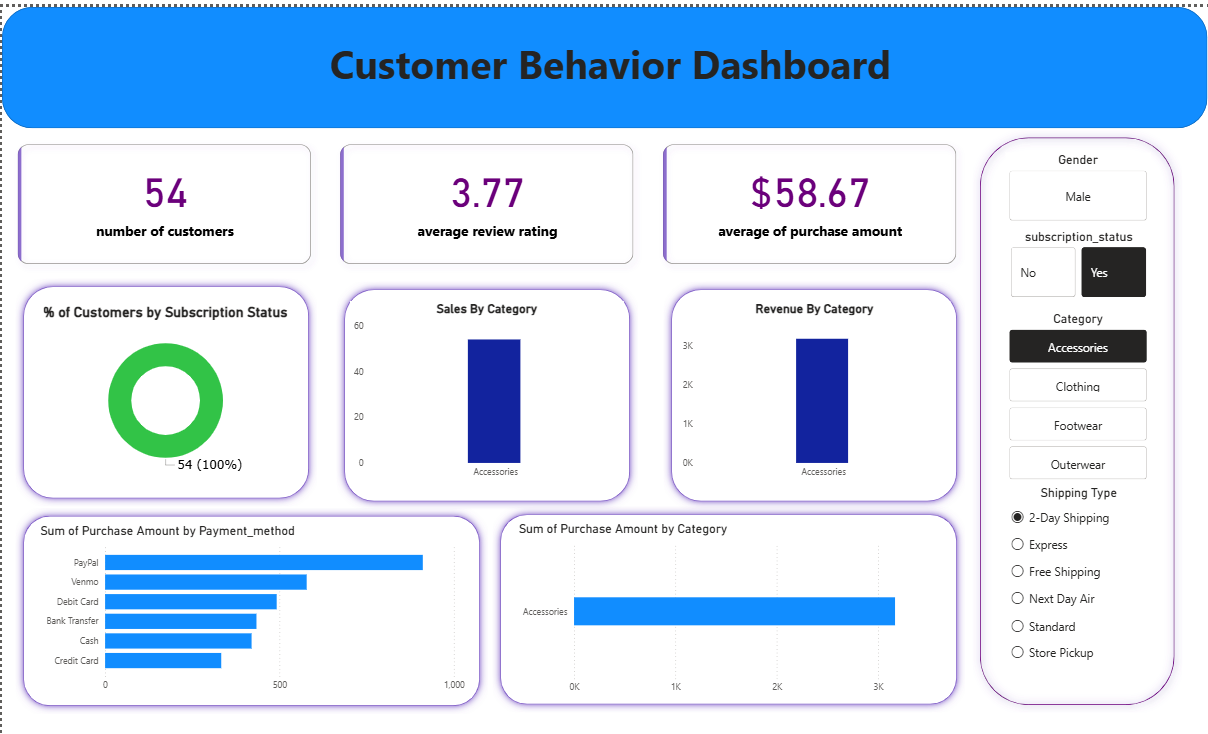

The dashboard page shown, as its layout file describes it:
{"tool":"powerbi","page":{"name":"Page 1","canvas":[1640,1000],"ordinal":0},"visuals":[{"type":"cardVisual","fields":{"Data":["public customers.number of customers","public customers.average review rating","public customers.average of purchase amount"]},"box":[0,165,1320,205],"z":0},{"type":"shape","box":[0,0,1640,165],"z":1000},{"type":"textbox","box":[78.2,34.8,1500.7,98.5],"z":2000},{"type":"shape","box":[17.5,370,410,310],"z":3000},{"type":"donutChart","title":"% of Customers by Subscription Status","fields":{"Category":["public customers.subscription_status"],"Y":["Count(public customers.customer_id)"]},"box":[50,405,342.5,240],"z":4000},{"type":"shape","box":[1320,167.5,285,792.5],"z":9000},{"type":"advancedSlicerVisual","title":"Gender","fields":{"Values":["public customers.gender"]},"box":[1365,197.5,197.5,97.5],"z":11000},{"type":"advancedSlicerVisual","title":"Category","fields":{"Values":["public customers.category"]},"box":[1365,415,197.5,235],"z":12000},{"type":"listSlicer","title":"Shipping Type","fields":{"Values":["public customers.shipping_type"]},"box":[1367.5,650,195,252.5],"z":13000},{"type":"shape","box":[17.5,682.5,642.5,280],"z":14000},{"type":"clusteredBarChart","title":"Sum of Purchase Amount by Payment_method","fields":{"Y":["Sum(public customers.purchase_amount)"],"Category":["public customers.payment_method"]},"box":[47.5,702.5,587.5,237.5],"z":15000},{"type":"shape","box":[667.5,680,642.5,280],"z":16000},{"type":"clusteredBarChart","title":"Sum of Purchase Amount by Category","fields":{"Category":["public customers.category"],"Y":["Sum(public customers.purchase_amount)"]},"box":[697.5,700,582.5,242.5],"z":17000},{"type":"shape","box":[455,372.5,410,310],"z":17001},{"type":"shape","box":[900,372.5,410,310],"z":17002},{"type":"lineClusteredColumnComboChart","title":"Revenue By Category","fields":{"Y":["Sum(public customers.purchase_amount)"],"Category":["public customers.category"]},"box":[920,400,370,250],"z":17003},{"type":"lineClusteredColumnComboChart","title":"Sales By Category","fields":{"Category":["public customers.category"],"Y":["CountNonNull(public customers.customer_id)"]},"box":[472.5,400,372.5,250],"z":17004},{"type":"advancedSlicerVisual","fields":{"Values":["public customers.subscription_status"]},"box":[1367.5,302.5,195,97.5],"z":17005}]}

Visuals, with their boxes in screenshot pixels (x1, y1, x2, y2), scaled from the page's 1640x1000 canvas onto the 1208x734 screenshot:
cardVisual - public customers.number of customers x public customers.average review rating: [x1=0, y1=121, x2=972, y2=272]
shape: [x1=0, y1=0, x2=1207, y2=121]
textbox: [x1=58, y1=26, x2=1163, y2=98]
shape: [x1=13, y1=272, x2=315, y2=499]
"% of Customers by Subscription Status" donutChart: [x1=37, y1=297, x2=289, y2=473]
shape: [x1=972, y1=123, x2=1182, y2=705]
"Gender" advancedSlicerVisual: [x1=1005, y1=145, x2=1151, y2=217]
"Category" advancedSlicerVisual: [x1=1005, y1=305, x2=1151, y2=477]
"Shipping Type" listSlicer: [x1=1007, y1=477, x2=1151, y2=662]
shape: [x1=13, y1=501, x2=486, y2=706]
"Sum of Purchase Amount by Payment_method" clusteredBarChart: [x1=35, y1=516, x2=468, y2=690]
shape: [x1=492, y1=499, x2=965, y2=705]
"Sum of Purchase Amount by Category" clusteredBarChart: [x1=514, y1=514, x2=943, y2=692]
shape: [x1=335, y1=273, x2=637, y2=501]
shape: [x1=663, y1=273, x2=965, y2=501]
"Revenue By Category" lineClusteredColumnComboChart: [x1=678, y1=294, x2=950, y2=477]
"Sales By Category" lineClusteredColumnComboChart: [x1=348, y1=294, x2=622, y2=477]
advancedSlicerVisual - public customers.subscription_status: [x1=1007, y1=222, x2=1151, y2=294]
